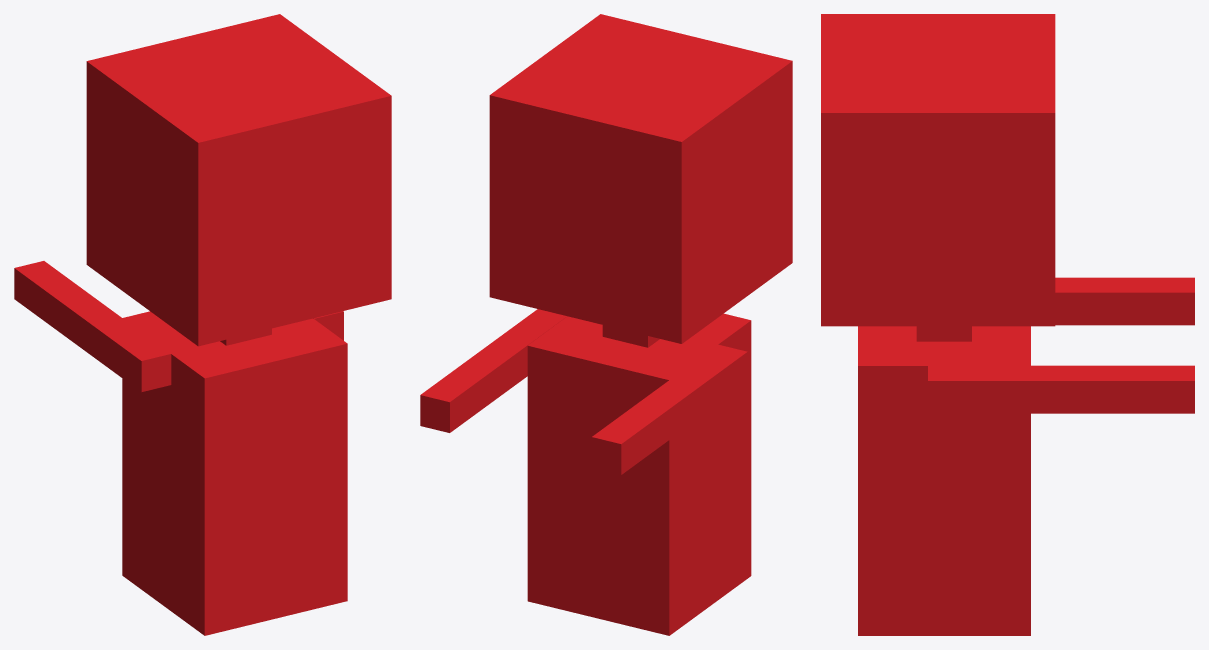
The model's file is enemy.glb.
The picture shows the model from 3 angles, left to right: view 1: azimuth 30°, elevation 25°; view 2: azimuth 150°, elevation 25°; view 3: azimuth 270°, elevation 25°; orthographic projection. The views are drawn at different scales.
Visible parts, largest first — view 1: mesh_id33, mesh_id37, mesh_id52; view 2: mesh_id33, mesh_id37, mesh_id52, mesh_id58, mesh_id35; view 3: mesh_id33, mesh_id37, mesh_id58, mesh_id52, mesh_id35.
Boxes of the visible parts, bbox=[...] form: mesh_id33: bbox=[86, 14, 391, 346]; mesh_id37: bbox=[122, 311, 347, 635]; mesh_id52: bbox=[14, 261, 171, 392]; mesh_id33: bbox=[489, 14, 792, 343]; mesh_id37: bbox=[527, 313, 751, 635]; mesh_id52: bbox=[591, 344, 747, 474]; mesh_id58: bbox=[420, 309, 566, 432]; mesh_id35: bbox=[602, 325, 659, 347]; mesh_id33: bbox=[821, 14, 1055, 326]; mesh_id37: bbox=[858, 326, 1030, 635]; mesh_id58: bbox=[928, 365, 1194, 413]; mesh_id52: bbox=[1055, 277, 1194, 325]; mesh_id35: bbox=[916, 326, 971, 341].
Size of the model in its own units: 0.1889 by 0.4563 by 0.2881.
Materials: 5 (5 with a texture image).
